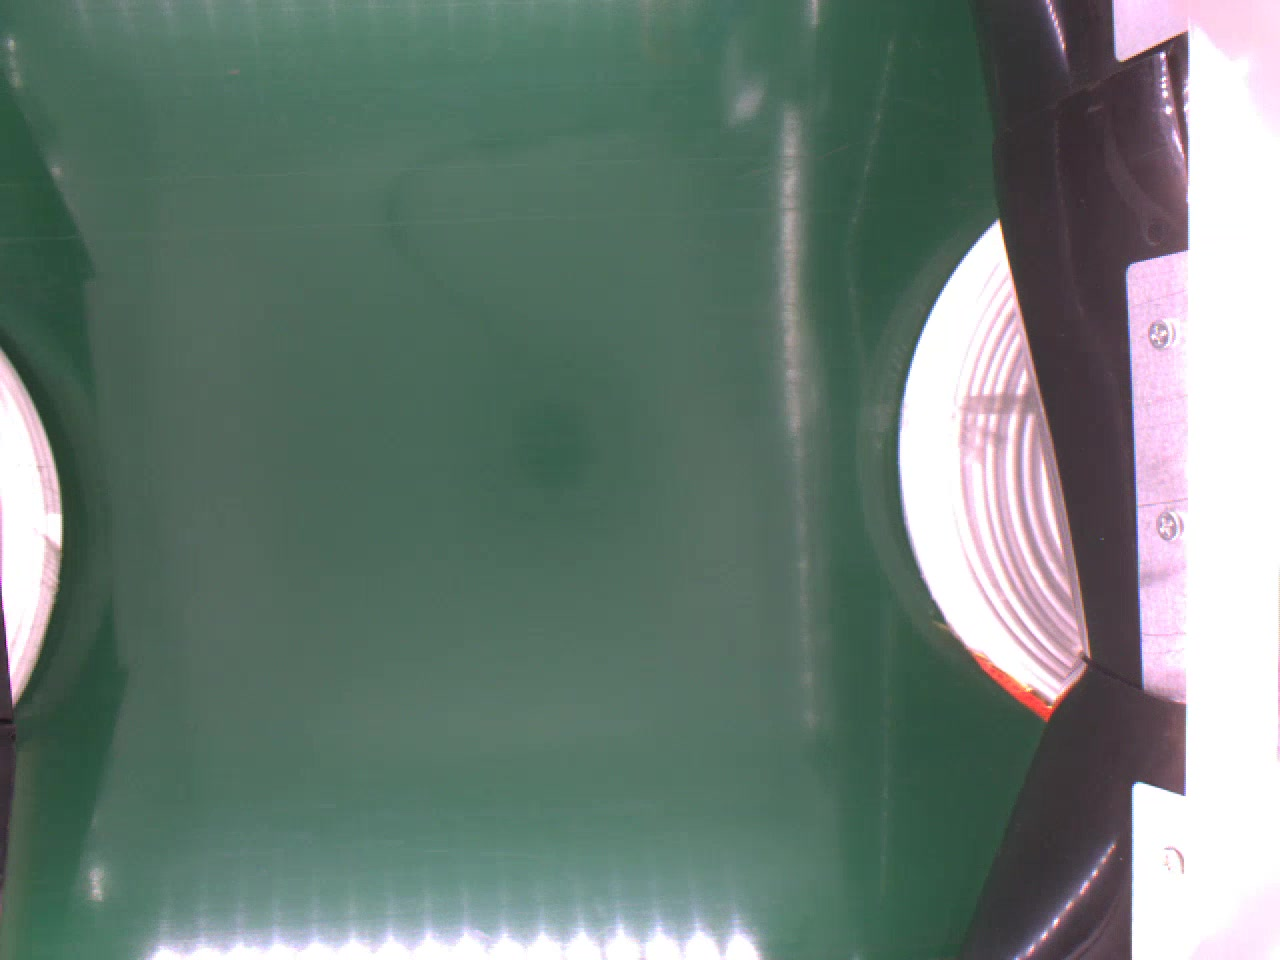white: (897, 214, 1083, 712)
